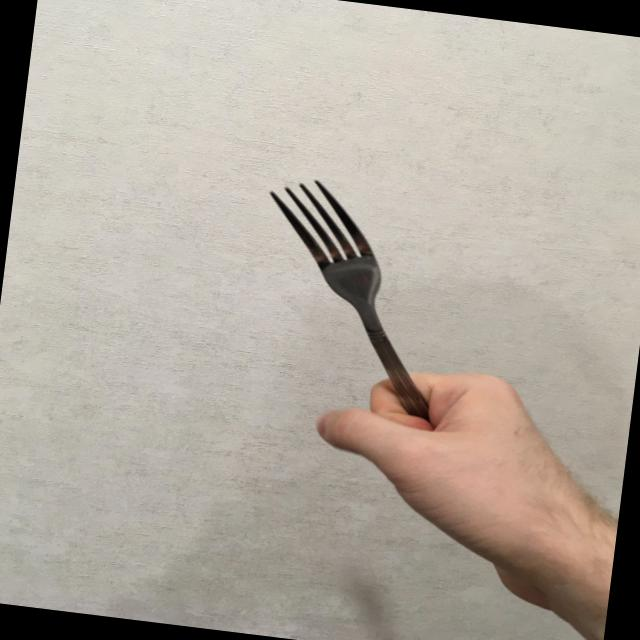fork: (238, 172, 466, 434)
